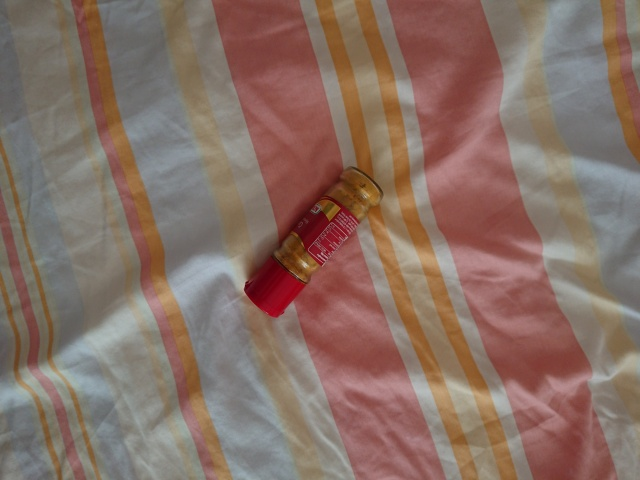Kotanyi Curry Spices Mix 70g: (239, 163, 386, 321)
